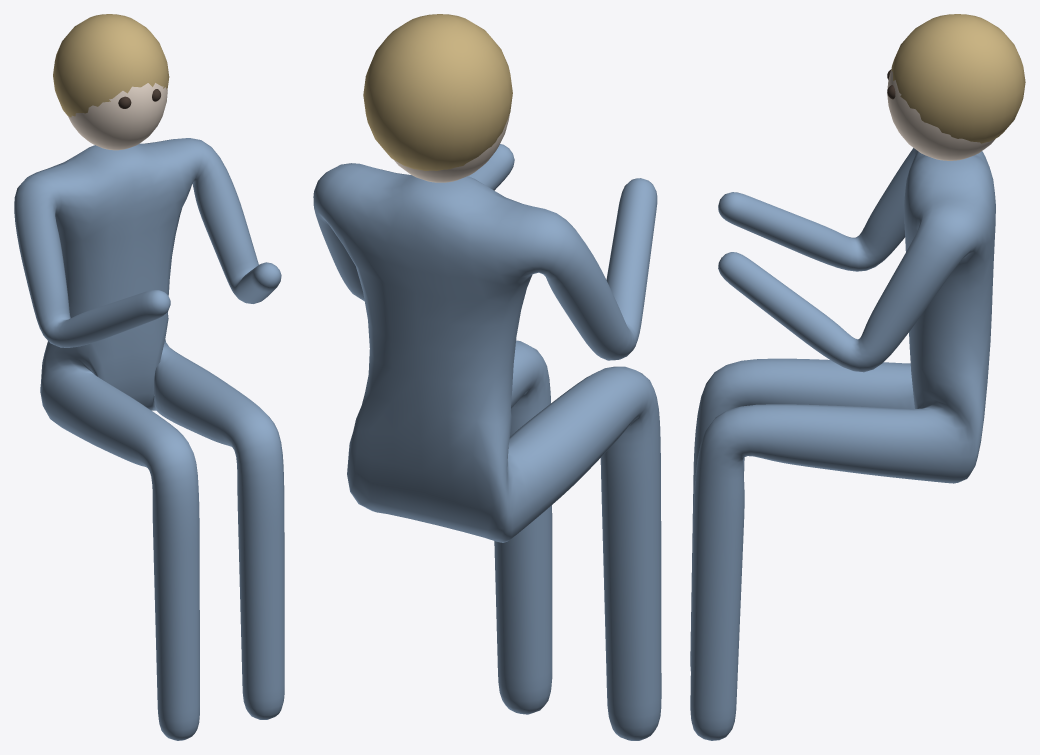
File: lucia.glb
3 views of the same model, side by side, from view 1: azimuth 30°, elevation 25°; view 2: azimuth 150°, elevation 25°; view 3: azimuth 270°, elevation 25° (orthographic). The views are drawn at different scales.
Visible parts, largest first — view 1: body, hair, head; view 2: body, hair, head; view 3: body, hair, head.
Boxes of the visible parts, left/top/right/bottom form: body: left=14, top=138, right=284, bottom=740; hair: left=53, top=14, right=169, bottom=117; head: left=68, top=83, right=167, bottom=150; body: left=313, top=144, right=661, bottom=740; hair: left=363, top=14, right=512, bottom=170; head: left=394, top=115, right=509, bottom=182; body: left=690, top=148, right=995, bottom=740; hair: left=891, top=14, right=1025, bottom=143; head: left=887, top=70, right=995, bottom=160.
Size of the model in its own units: 0.3898 by 1.07 by 0.4647.
